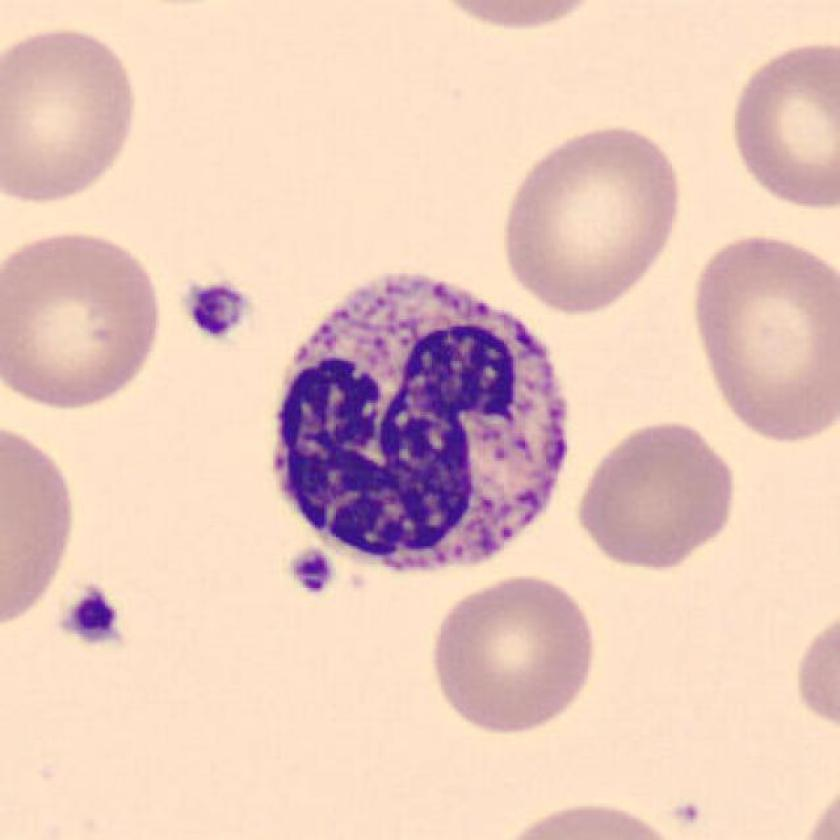neutrophil: (273, 273, 569, 572)
